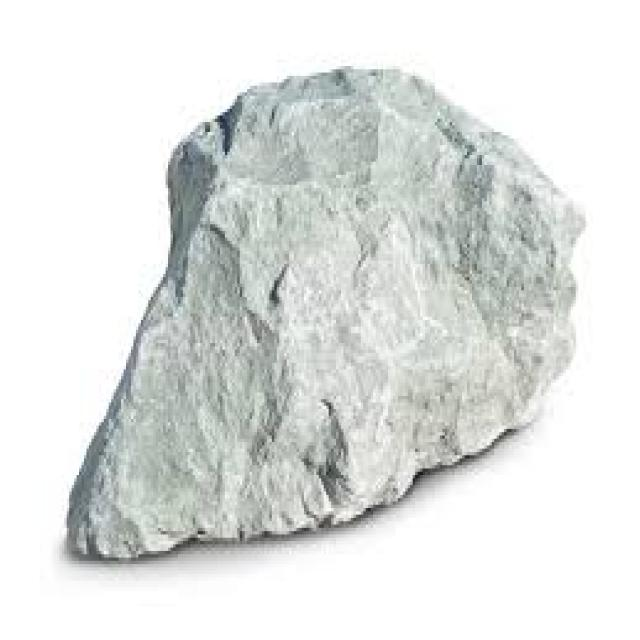Metamorphic: (64, 66, 581, 567)
